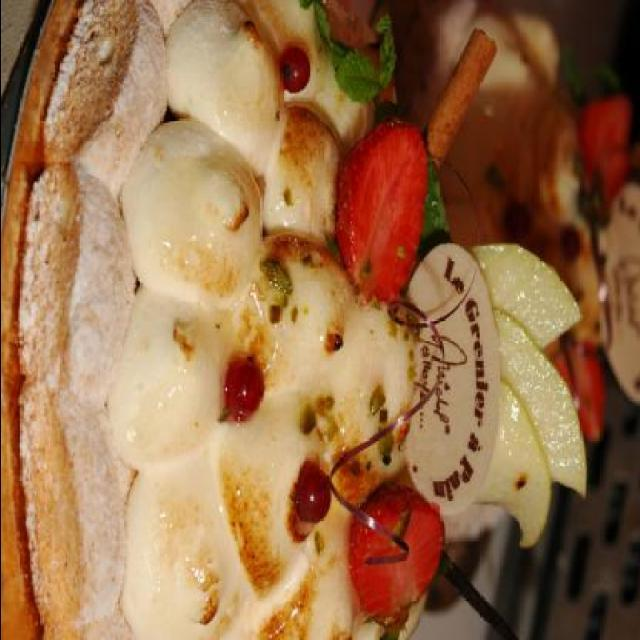Strawberry: (339, 126, 427, 297)
